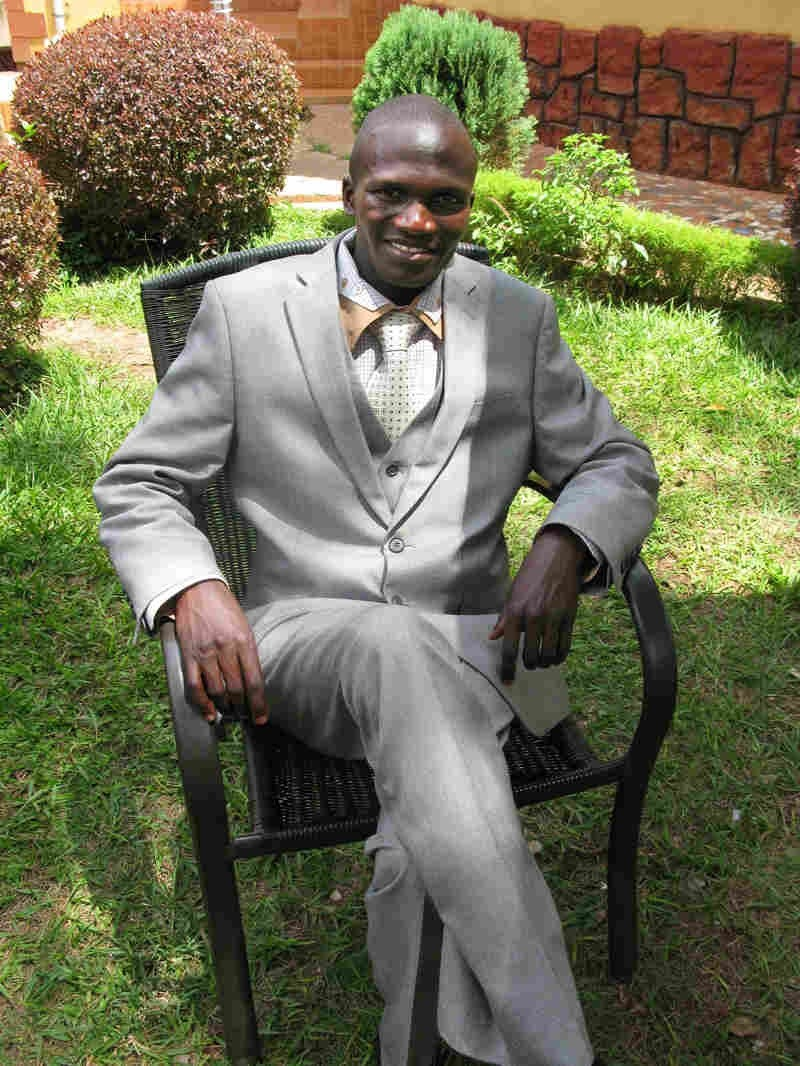face_no_mask: (344, 95, 480, 290)
